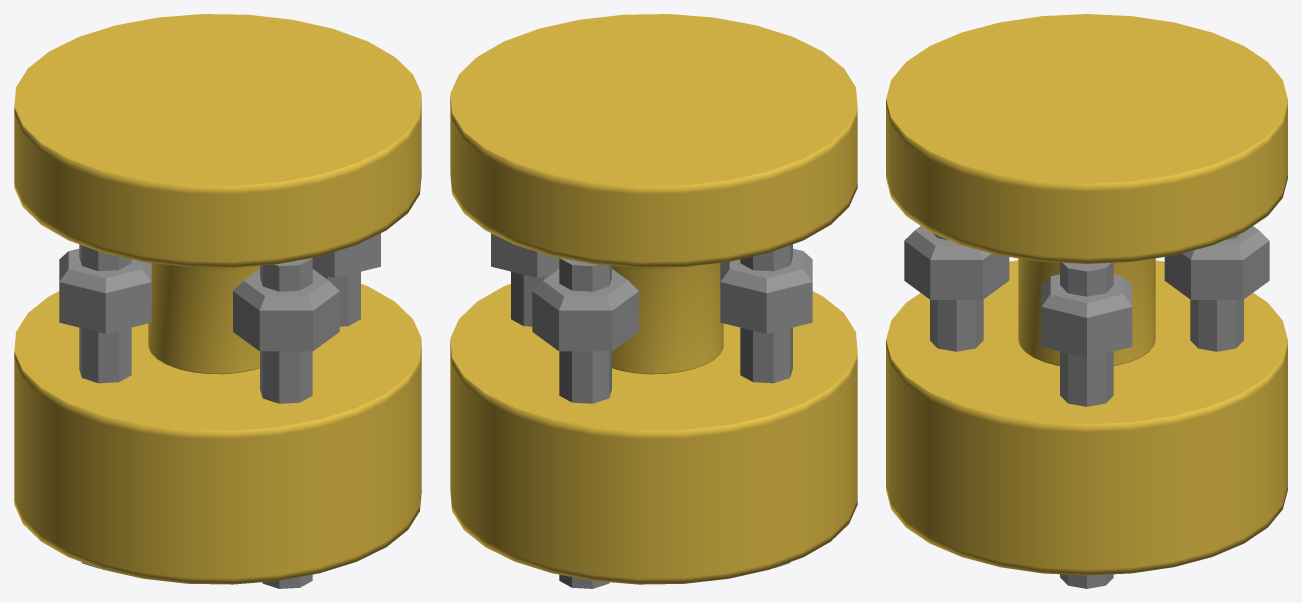
Rendered from nots.fbx.
3 views of the same model, side by side, from view 1: azimuth 30°, elevation 25°; view 2: azimuth 150°, elevation 25°; view 3: azimuth 270°, elevation 25° (orthographic).
Visible parts, largest first — view 1: Circle.008, Circle.068, Circle.061, Circle.074; view 2: Circle.008, Circle.010, Circle.061, Circle.074; view 3: Circle.008, Circle.074, Circle.068, Circle.010.
Part boxes in pixels (left/top/right/bottom): Circle.008: left=14, top=14, right=421, bottom=584; Circle.068: left=233, top=258, right=339, bottom=588; Circle.061: left=59, top=244, right=151, bottom=568; Circle.074: left=312, top=233, right=380, bottom=326; Circle.008: left=450, top=14, right=857, bottom=584; Circle.010: left=532, top=258, right=638, bottom=588; Circle.061: left=720, top=244, right=812, bottom=568; Circle.074: left=491, top=233, right=559, bottom=326; Circle.008: left=886, top=14, right=1287, bottom=575; Circle.074: left=1041, top=262, right=1132, bottom=588; Circle.068: left=904, top=226, right=1009, bottom=351; Circle.010: left=1164, top=226, right=1269, bottom=351.
Size of the model in its own units: 413 by 480 by 413.
